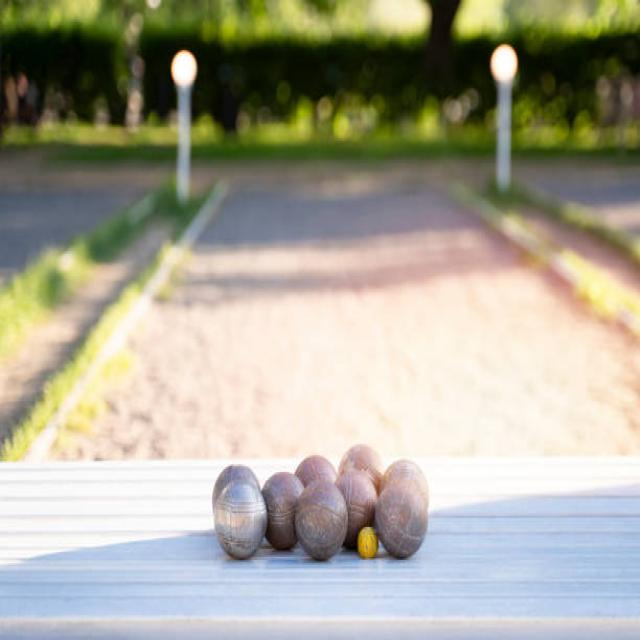hatball: (355, 524, 381, 562)
petanque: (374, 476, 434, 563), (286, 480, 348, 562), (214, 477, 271, 566), (257, 470, 306, 557), (332, 472, 379, 551), (210, 462, 265, 510), (376, 457, 433, 503), (336, 442, 389, 485), (291, 453, 341, 497)
